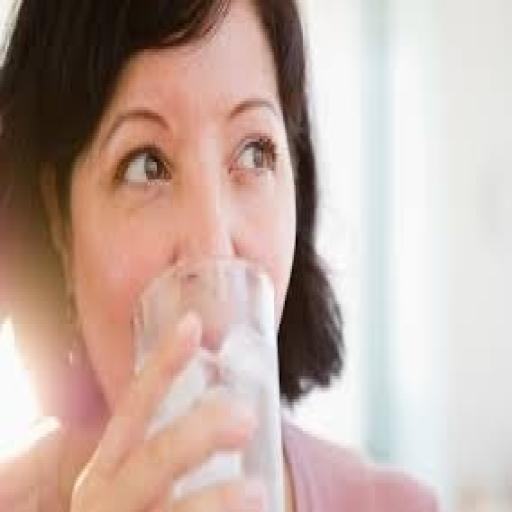drinking: (128, 0, 366, 509)
